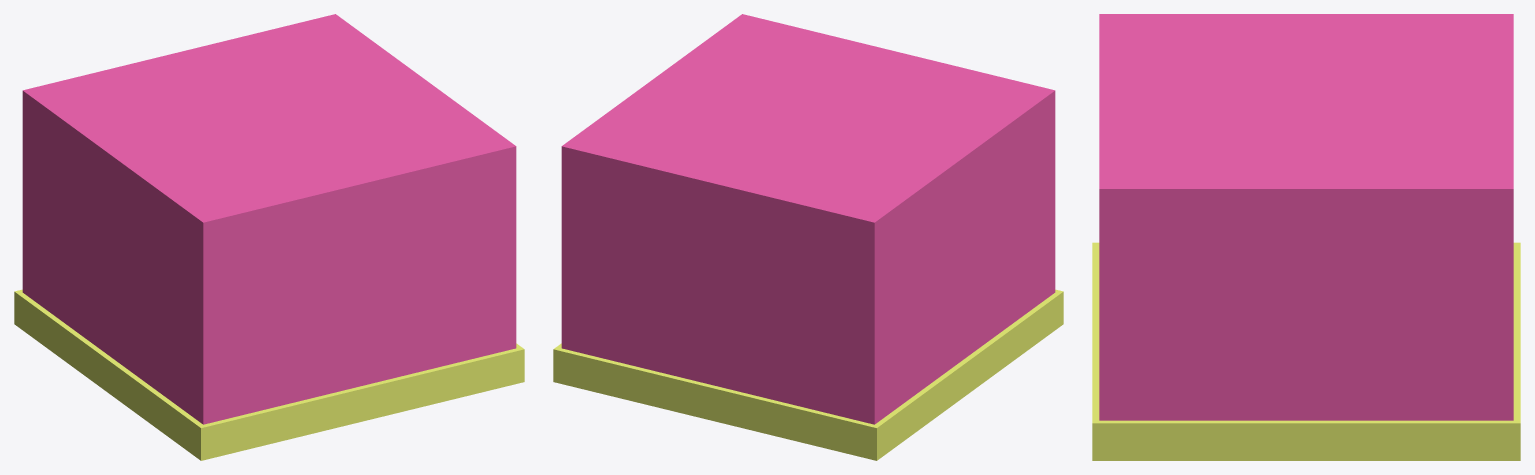
The model's file is ciclista_manga_sup.glb.
The picture shows the model from 3 angles, left to right: view 1: azimuth 30°, elevation 25°; view 2: azimuth 150°, elevation 25°; view 3: azimuth 270°, elevation 25°; orthographic projection. The views are drawn at different scales.
Parts seen in each view (by area): view 1: ciclista_manga_sup; view 2: ciclista_manga_sup; view 3: ciclista_manga_sup.
Part boxes in pixels (x1,y1,x2,y2): ciclista_manga_sup: [14, 14, 524, 460]; ciclista_manga_sup: [553, 14, 1063, 460]; ciclista_manga_sup: [1092, 14, 1520, 460].
Size of the model in its own units: 0.31 by 0.215 by 0.31.
